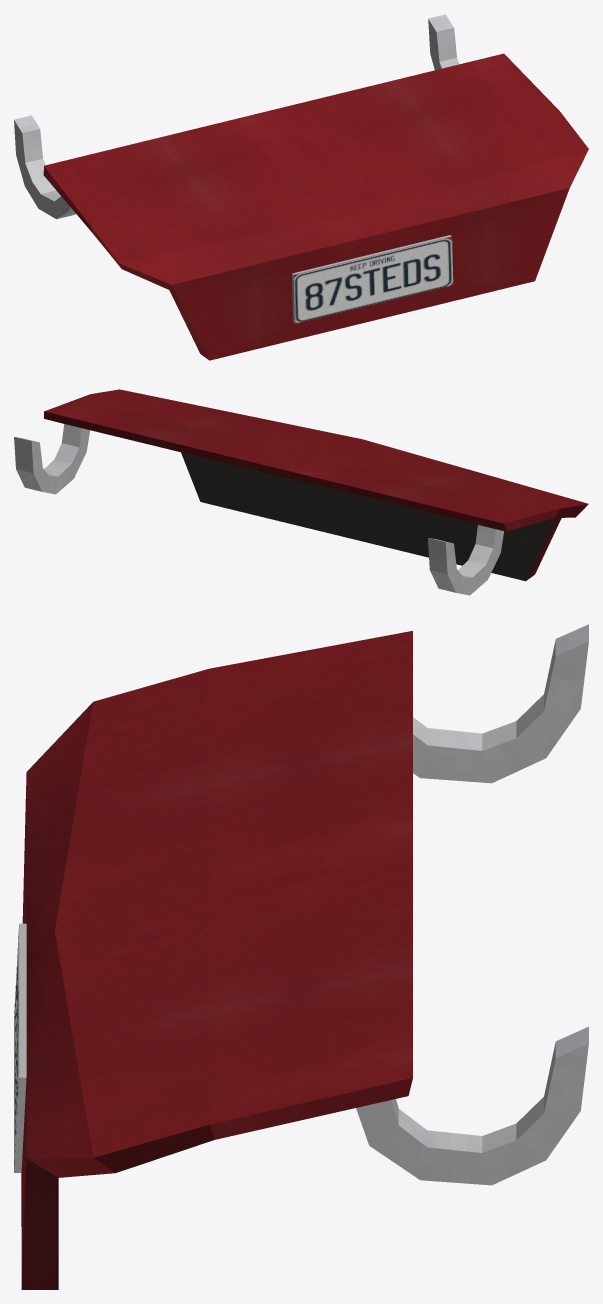
Rendered from Trunk.glb.
The picture shows the model from 3 angles, top to bottom: view 1: azimuth 30°, elevation 25°; view 2: azimuth 150°, elevation 25°; view 3: azimuth 270°, elevation 25°; orthographic projection. The views are drawn at different scales.
Parts seen in each view (by area): view 1: pCube1; view 2: pCube1; view 3: pCube1.
Part boxes in pixels (x1,y1,x2,y2): pCube1: [14, 14, 588, 360]; pCube1: [14, 389, 588, 595]; pCube1: [14, 624, 588, 1289].
Size of the model in its own units: 2.6 by 0.7913 by 1.38.
Materials: 1 (1 with a texture image).
